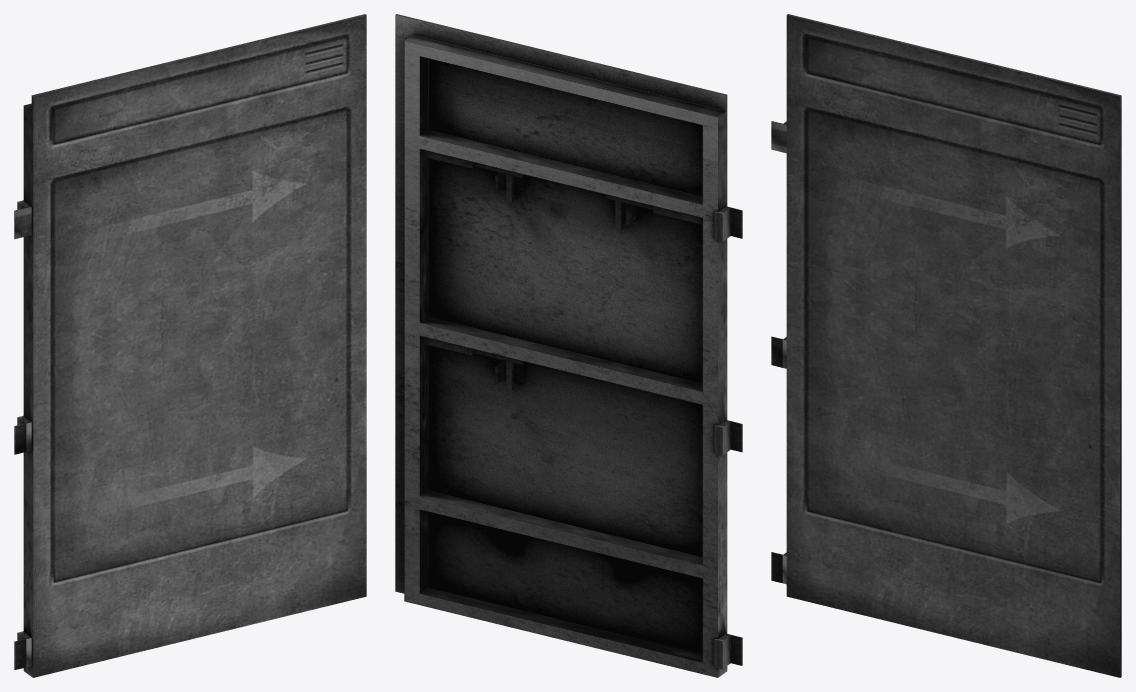
Rendered from Door_LCZ.fbx.
3 renders of one model, left to right at view 1: azimuth 30°, elevation 25°; view 2: azimuth 150°, elevation 25°; view 3: azimuth 330°, elevation 25°, orthographic.
Parts seen in each view (by area): view 1: Door_LCZ; view 2: Door_LCZ; view 3: Door_LCZ.
Boxes of the visible parts, left/top/right/bottom form: Door_LCZ: left=14, top=14, right=366, bottom=677; Door_LCZ: left=395, top=14, right=742, bottom=677; Door_LCZ: left=771, top=14, right=1121, bottom=677.
Bounding box in the file's own units: 2.02 × 3.2 × 0.1058.
